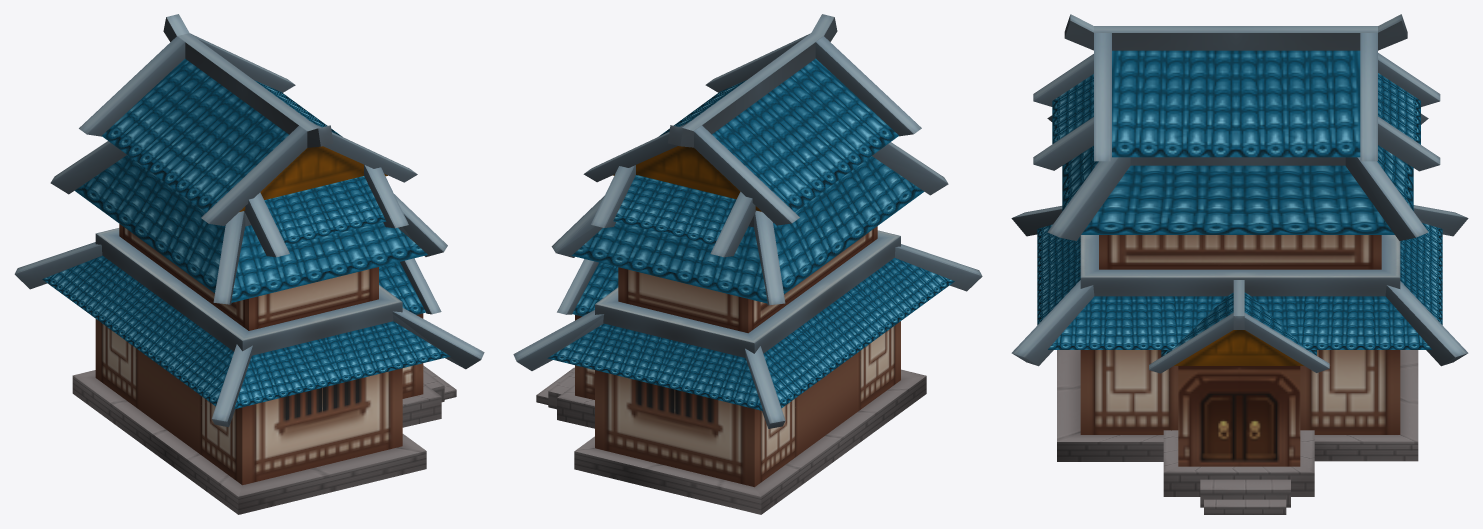
Rendered from QSMY_City_MinFang01.FBX.
The picture shows the model from 3 angles, left to right: view 1: azimuth 30°, elevation 25°; view 2: azimuth 150°, elevation 25°; view 3: azimuth 270°, elevation 25°; orthographic projection. The views are drawn at different scales.
Visible parts, largest first — view 1: Object115; view 2: Object115; view 3: Object115.
Boxes of the visible parts, bbox=[...] form: Object115: bbox=[14, 14, 484, 514]; Object115: bbox=[513, 14, 982, 514]; Object115: bbox=[1011, 14, 1468, 514].
Size of the model in its own units: 14.97 by 15.85 by 16.64.
